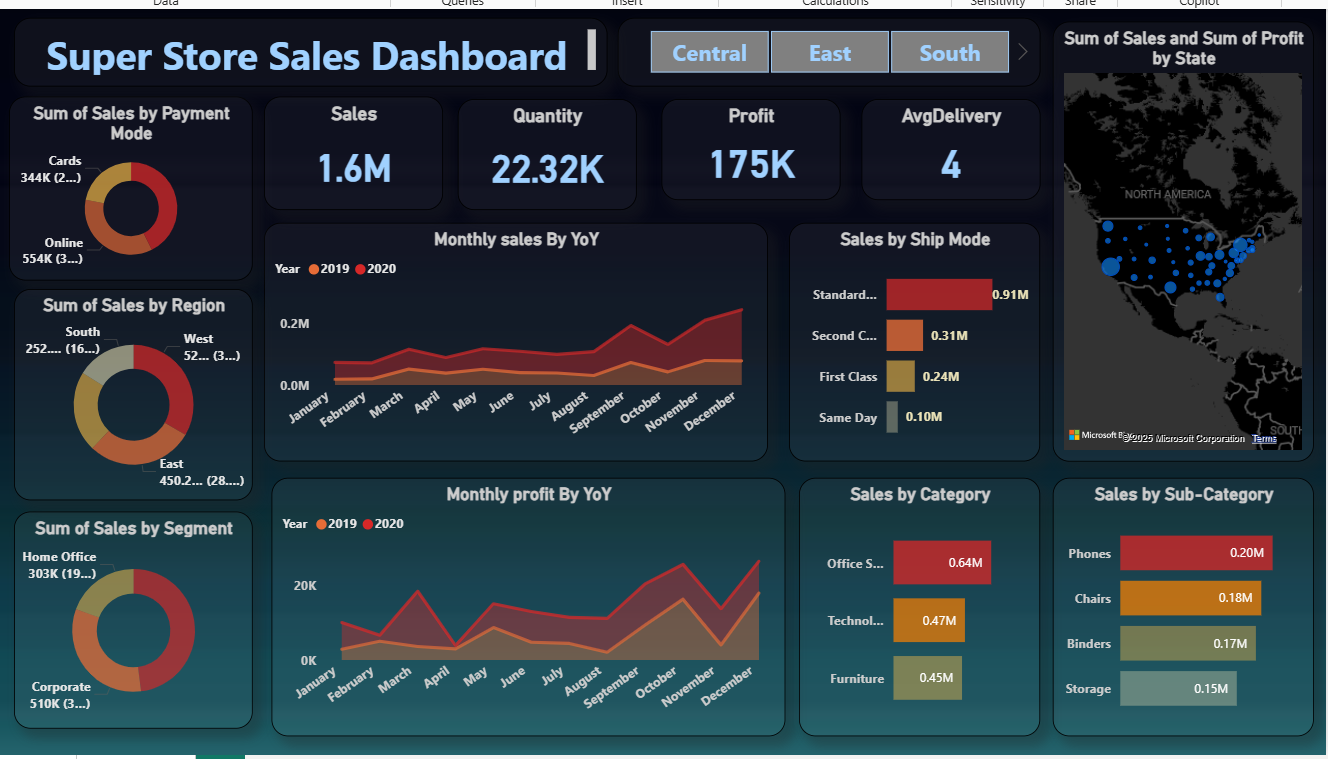

The dashboard page shown, as its layout file describes it:
{"tool":"powerbi","page":{"name":"DashBoard","canvas":[1280,720],"ordinal":0},"visuals":[{"type":"clusteredBarChart","title":"Sales by Category","fields":{"Category":["SuperStore_Sales_Dataset.Category"],"Y":["Sum(SuperStore_Sales_Dataset.Sales)"]},"box":[772.1,452.4,232.8,249.7],"z":0},{"type":"clusteredBarChart","title":"Sales by Sub-Category","fields":{"Category":["SuperStore_Sales_Dataset.Sub-Category"],"Y":["Sum(SuperStore_Sales_Dataset.Sales)"]},"box":[1017,452.4,252.1,249.7],"z":1000},{"type":"clusteredBarChart","title":"Sales by Ship Mode","fields":{"Category":["SuperStore_Sales_Dataset.Ship Mode"],"Y":["Sum(SuperStore_Sales_Dataset.Sales)"]},"box":[762.5,206.3,242.5,230.4],"z":2000},{"type":"stackedAreaChart","title":" Monthly sales By YoY","fields":{"Category":["SuperStore_Sales_Dataset.Order Date.Variation.Date Hierarchy.Month","SuperStore_Sales_Dataset.Order Date.Variation.Date Hierarchy.Day"],"Y":["Sum(SuperStore_Sales_Dataset.Sales)"],"Series":["SuperStore_Sales_Dataset.Order Date.Variation.Date Hierarchy.Year"]},"box":[255.8,206.3,486.2,230.4],"z":3000},{"type":"stackedAreaChart","title":" Monthly profit By YoY","fields":{"Category":["SuperStore_Sales_Dataset.Order Date.Variation.Date Hierarchy.Month","SuperStore_Sales_Dataset.Order Date.Variation.Date Hierarchy.Day"],"Series":["SuperStore_Sales_Dataset.Order Date.Variation.Date Hierarchy.Year"],"Y":["Sum(SuperStore_Sales_Dataset.Profit)"]},"box":[263,452.4,495.8,249.7],"z":4000},{"type":"map","fields":{"Category":["SuperStore_Sales_Dataset.State"],"Size":["Sum(SuperStore_Sales_Dataset.Sales)"]},"box":[1017,12.1,252.1,424.7],"z":5000},{"type":"donutChart","fields":{"Category":["SuperStore_Sales_Dataset.Segment"],"Y":["Sum(SuperStore_Sales_Dataset.Sales)"]},"box":[14.5,485,230.4,209.9],"z":6000},{"type":"donutChart","fields":{"Category":["SuperStore_Sales_Dataset.Payment Mode"],"Y":["Sum(SuperStore_Sales_Dataset.Sales)"]},"box":[9.7,84.5,235.3,177.3],"z":7000},{"type":"slicer","fields":{"Values":["SuperStore_Sales_Dataset.Region"]},"box":[597.2,8.4,407.8,66.4],"z":8000},{"type":"textbox","box":[14.5,8.4,573.1,66.4],"z":9000},{"type":"card","title":"Sales","fields":{"Values":["Sum(SuperStore_Sales_Dataset.Sales)"]},"box":[255.8,84.5,172.5,109.8],"z":10000},{"type":"card","title":"Quantity","fields":{"Values":["Sum(SuperStore_Sales_Dataset.Quantity)"]},"box":[442.8,86.9,172.5,107.4],"z":11000},{"type":"card","title":"Profit","fields":{"Values":["Sum(SuperStore_Sales_Dataset.Profit)"]},"box":[639.4,86.9,172.5,97.7],"z":12000},{"type":"card","title":"AvgDelivery","fields":{"Values":["Avg(SuperStore_Sales_Dataset.AvgDelivery)"]},"box":[832.4,86.9,172.5,97.7],"z":13000},{"type":"donutChart","fields":{"Category":["SuperStore_Sales_Dataset.Region"],"Y":["Sum(SuperStore_Sales_Dataset.Sales)"]},"box":[14.5,270.2,230.4,203.9],"z":14000}]}

Visuals, with their boxes on the page's 1280x720 design canvas (x1, y1, x2, y2). These are canvas units, not pixel positions in the 1328x759 screenshot, which may show the page scaled, cropped or inside an application window:
"Sales by Category" clusteredBarChart: {"x1": 772, "y1": 452, "x2": 1005, "y2": 702}
"Sales by Sub-Category" clusteredBarChart: {"x1": 1017, "y1": 452, "x2": 1269, "y2": 702}
"Sales by Ship Mode" clusteredBarChart: {"x1": 762, "y1": 206, "x2": 1005, "y2": 437}
" Monthly sales By YoY" stackedAreaChart: {"x1": 256, "y1": 206, "x2": 742, "y2": 437}
" Monthly profit By YoY" stackedAreaChart: {"x1": 263, "y1": 452, "x2": 759, "y2": 702}
map - SuperStore_Sales_Dataset.State x Sum(SuperStore_Sales_Dataset.Sales): {"x1": 1017, "y1": 12, "x2": 1269, "y2": 437}
donutChart - SuperStore_Sales_Dataset.Segment x Sum(SuperStore_Sales_Dataset.Sales): {"x1": 14, "y1": 485, "x2": 245, "y2": 695}
donutChart - SuperStore_Sales_Dataset.Payment Mode x Sum(SuperStore_Sales_Dataset.Sales): {"x1": 10, "y1": 84, "x2": 245, "y2": 262}
slicer - SuperStore_Sales_Dataset.Region: {"x1": 597, "y1": 8, "x2": 1005, "y2": 75}
textbox: {"x1": 14, "y1": 8, "x2": 588, "y2": 75}
"Sales" card: {"x1": 256, "y1": 84, "x2": 428, "y2": 194}
"Quantity" card: {"x1": 443, "y1": 87, "x2": 615, "y2": 194}
"Profit" card: {"x1": 639, "y1": 87, "x2": 812, "y2": 185}
"AvgDelivery" card: {"x1": 832, "y1": 87, "x2": 1005, "y2": 185}
donutChart - SuperStore_Sales_Dataset.Region x Sum(SuperStore_Sales_Dataset.Sales): {"x1": 14, "y1": 270, "x2": 245, "y2": 474}
